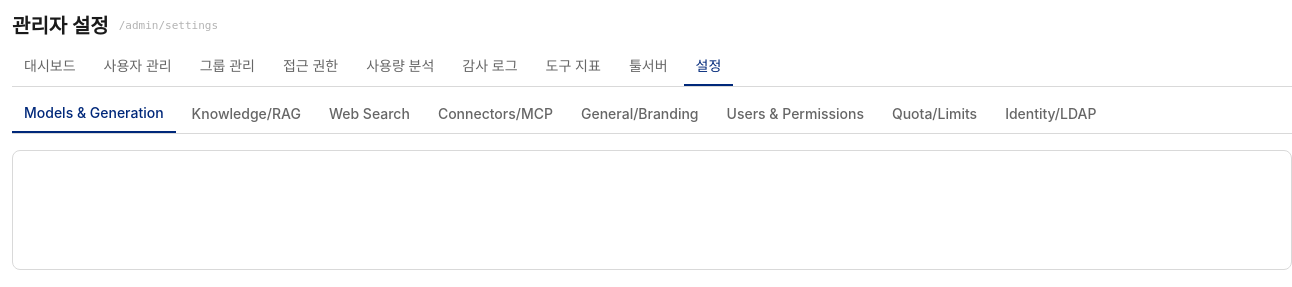
Test: AdminSettingsScreen › defaultUserRole/enableSignup 은 '아직 미적용' 힌트를 노출하지 않는다(런타임 배선 완료)
Expected: the element named "관리자 설정 탭" is shown, 12,103 -> 1291,134
Click the tab with test id "admin-settings-tab-permissions" at (795, 118), box 714,103 -> 876,133
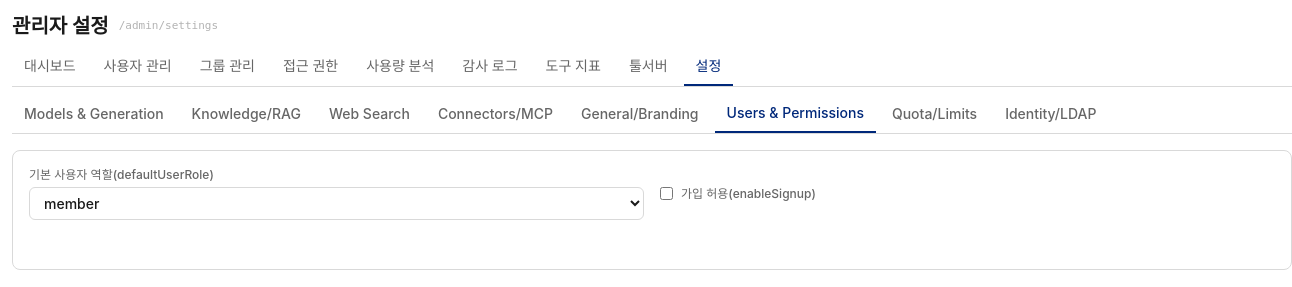
Result: the dropdown with test id "admin-settings-defaultUserRole" is shown at 29,187 -> 644,220
